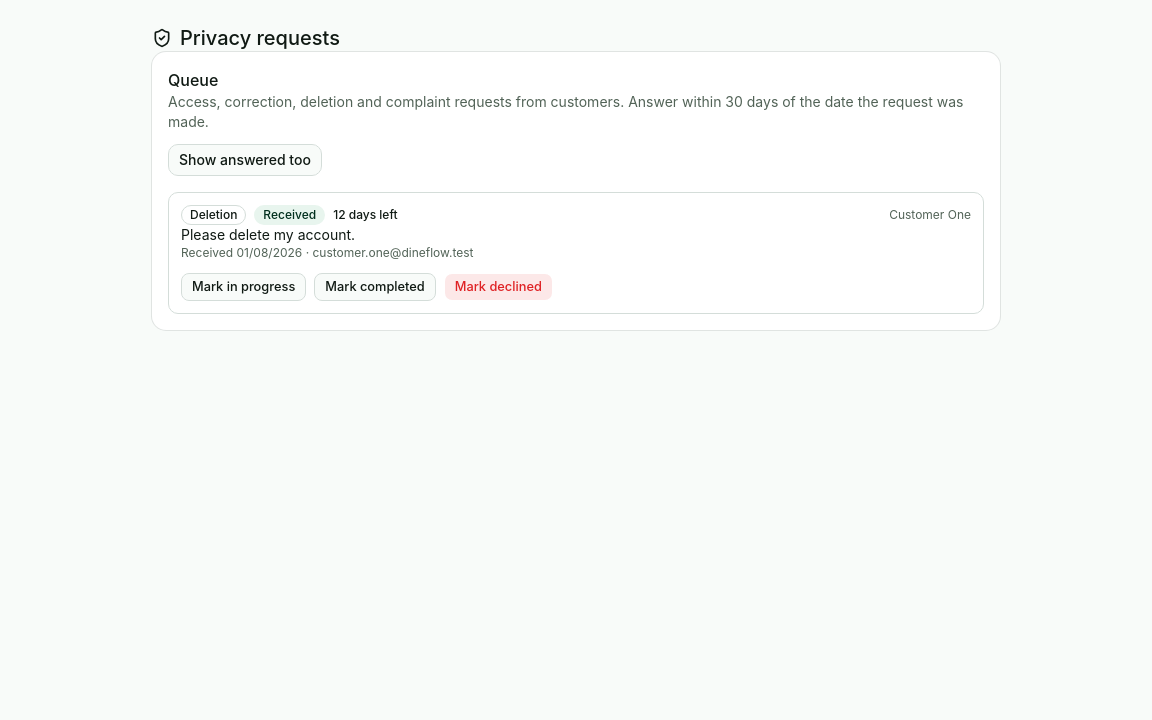
Test: the privacy request queue › will not decline without a reason
Click the button "Mark declined".
click(498, 287)  # box [444,273,553,301]
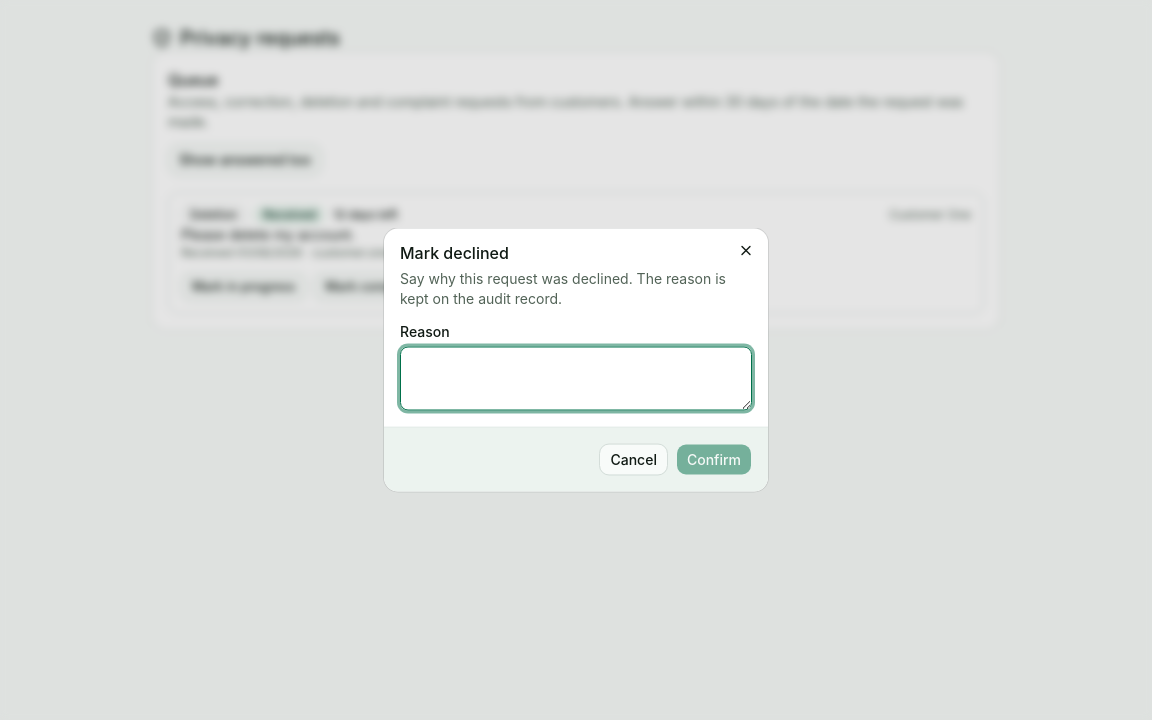
Expected: the button "Confirm" is disabled, [676,444,752,476]
Type "Required for seven years under tax law." into the text box labelled "Reason".
click(576, 378); type("Required for seven years under tax law.")  # box [400,346,752,410]
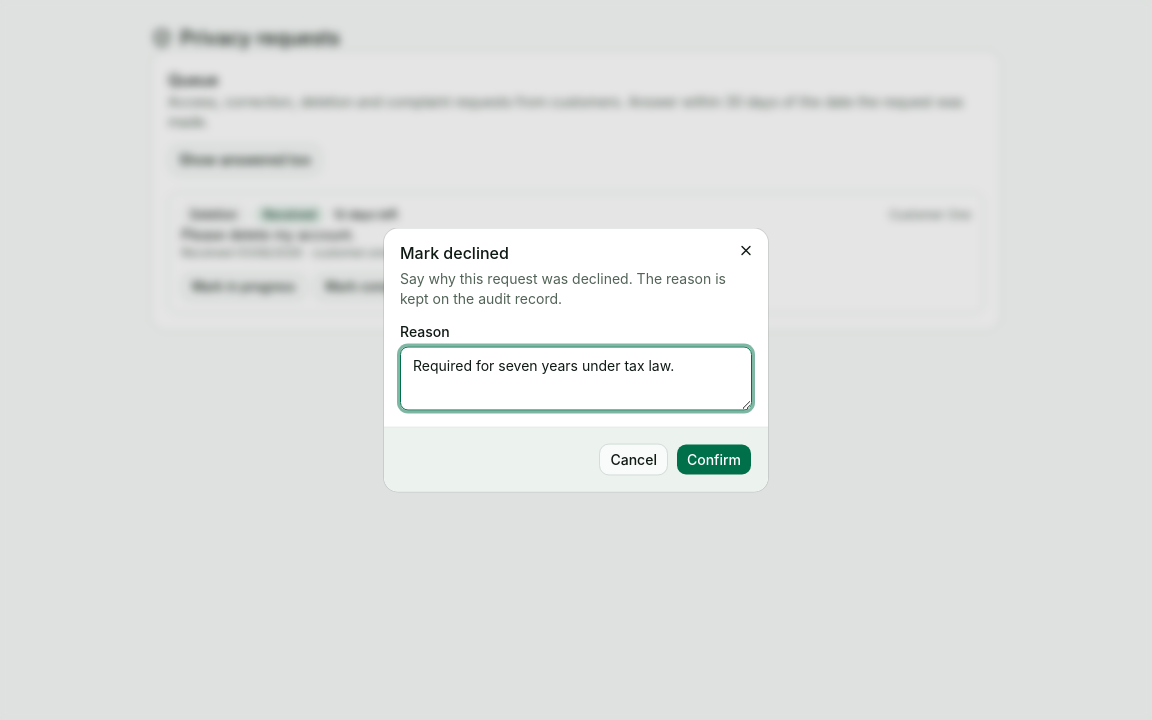
Expected: the button "Confirm" is enabled, [676,444,752,476]
